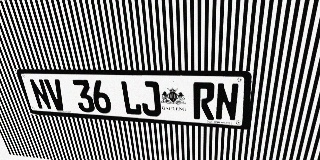3: (72, 80, 96, 113)
6: (89, 80, 113, 114)
J: (139, 81, 161, 117)
L: (120, 81, 142, 116)
N: (215, 83, 240, 121), (28, 79, 53, 110)
R: (193, 82, 215, 120)
V: (44, 79, 68, 111)
